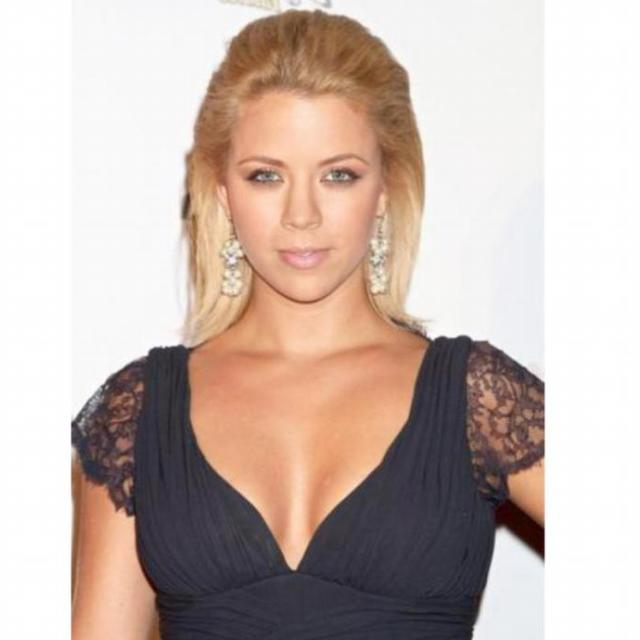live: (221, 94, 387, 308)
